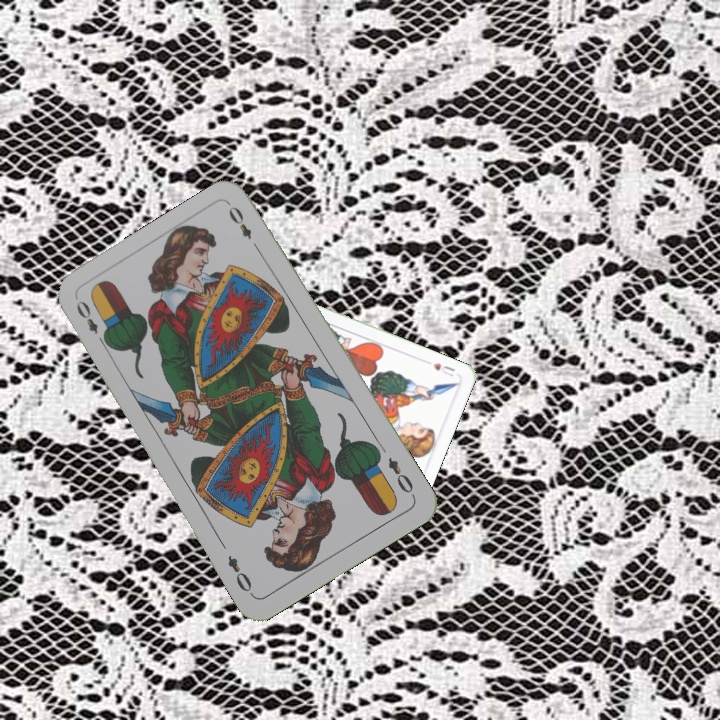EO: (72, 296, 111, 349), (384, 453, 418, 500)
HU: (429, 359, 458, 379)
